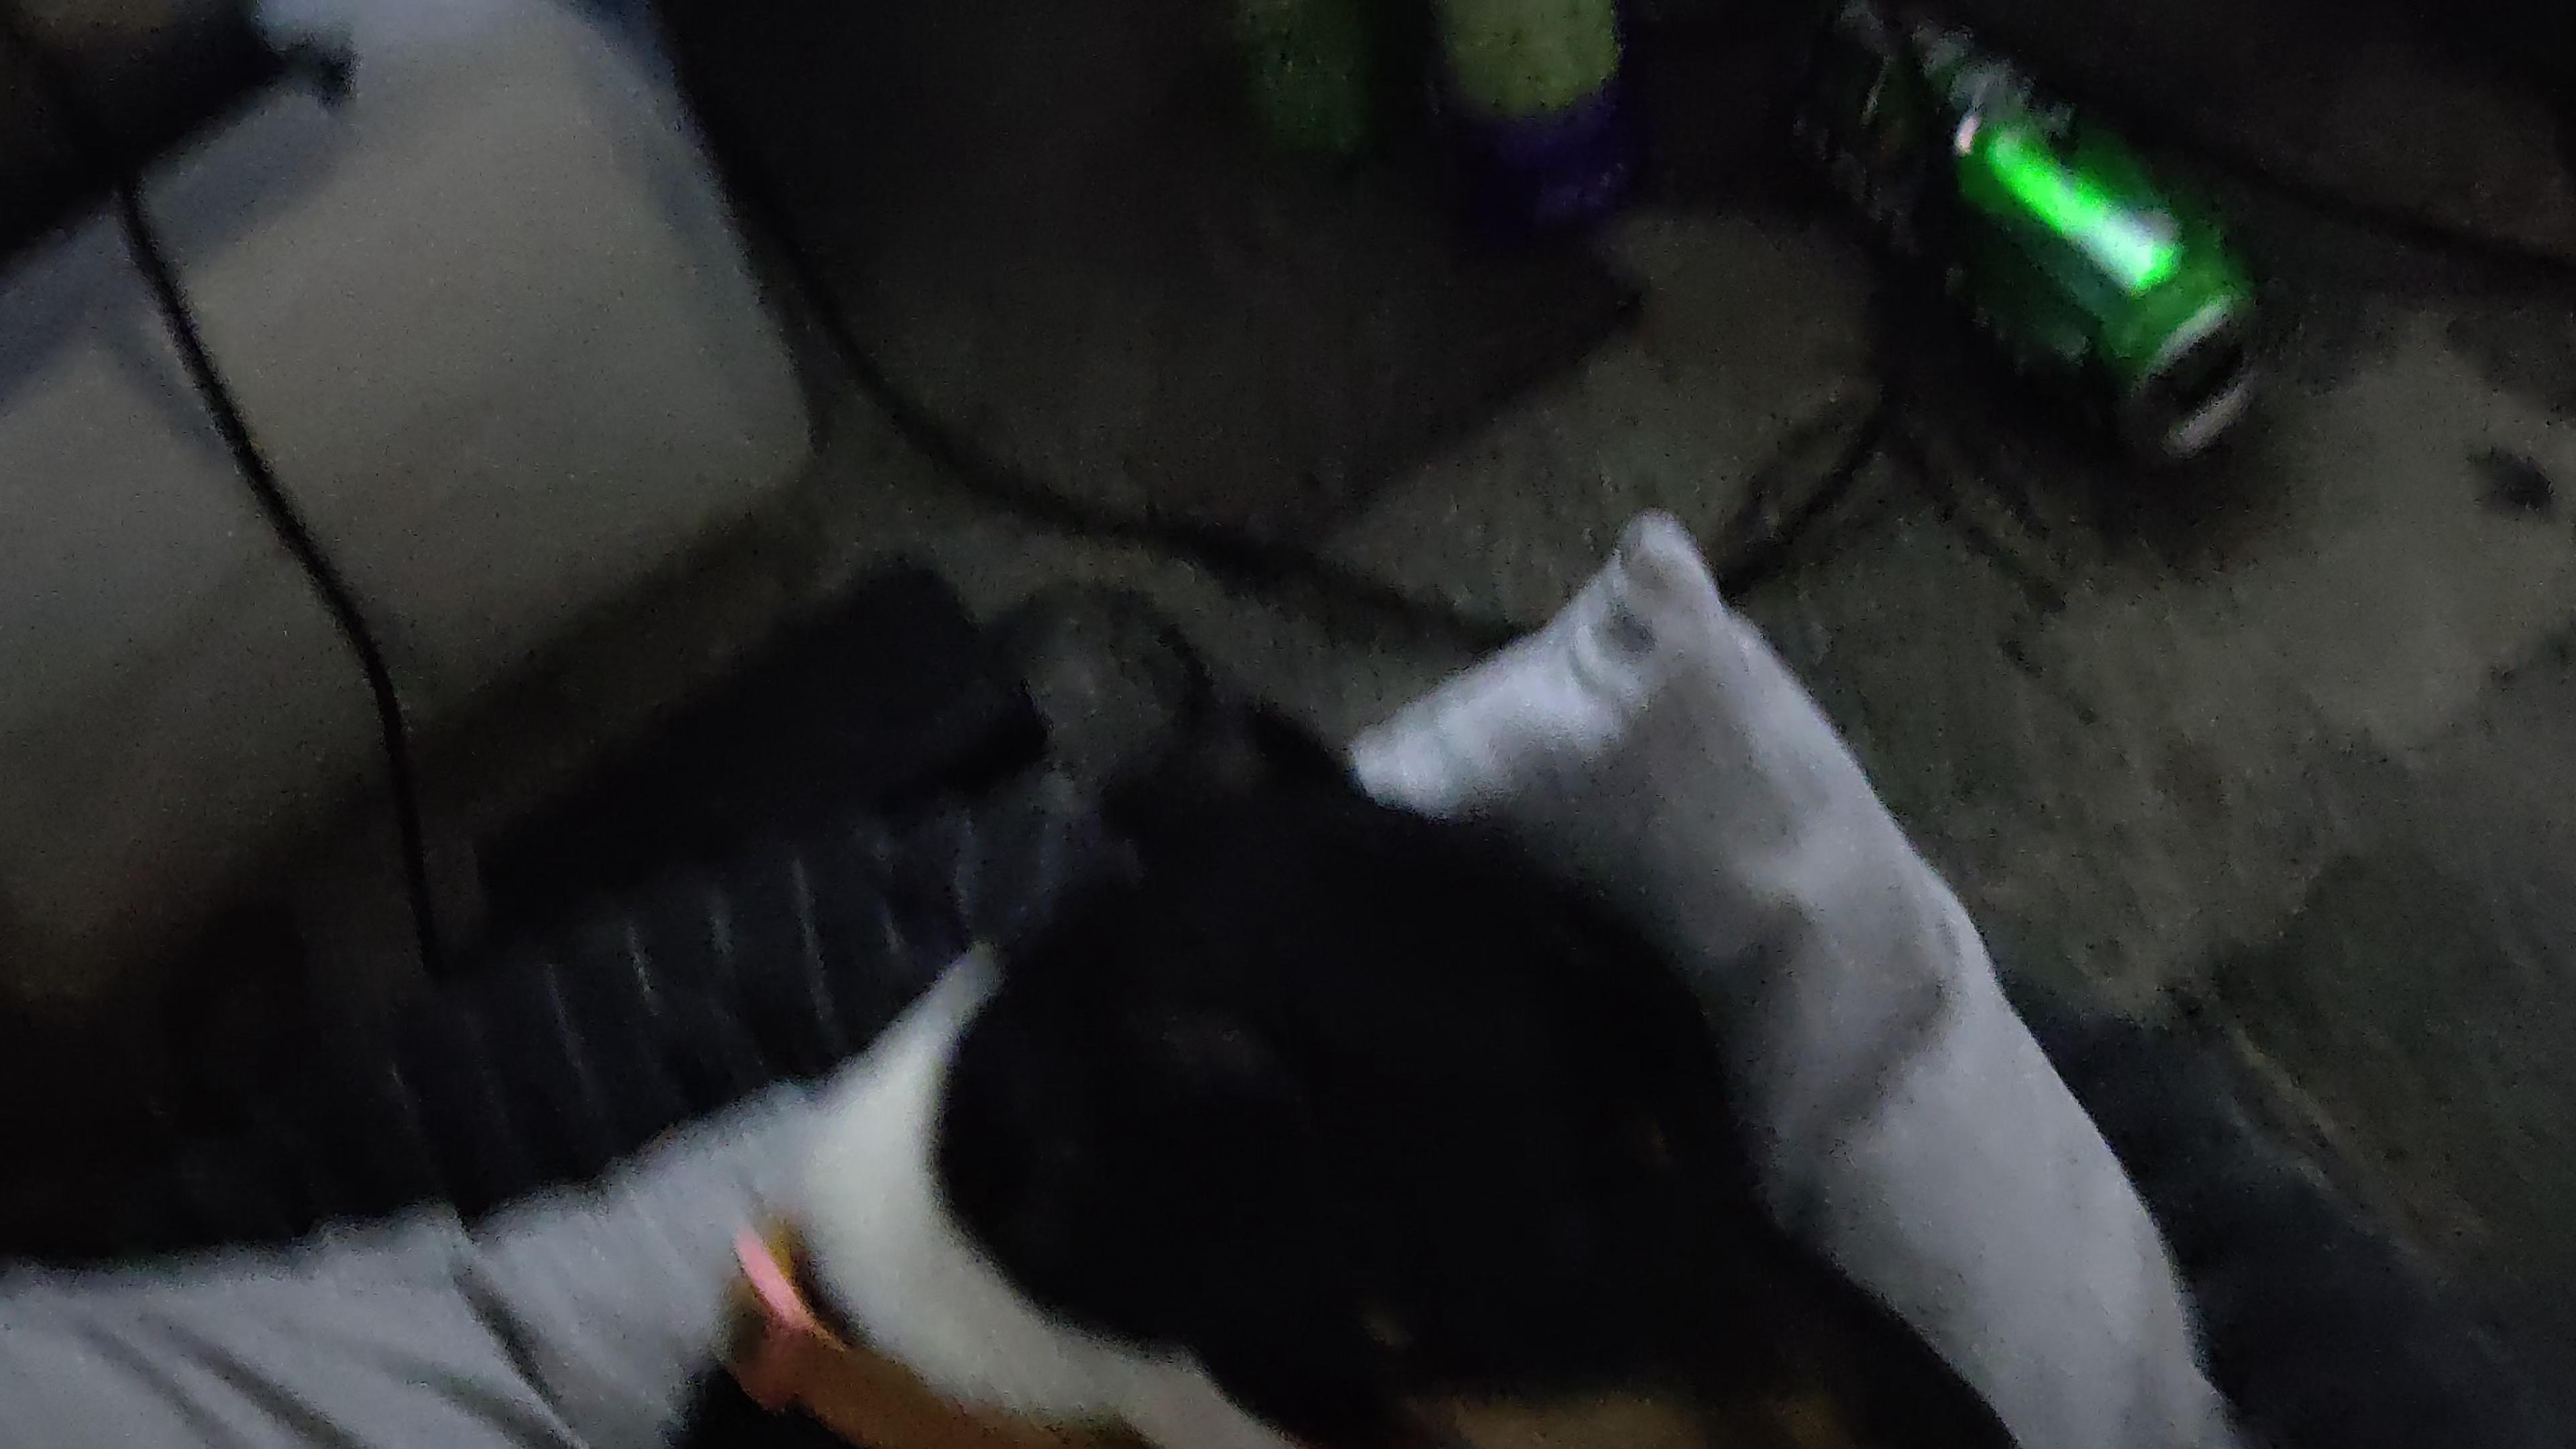Dog: (653, 626, 2017, 1449)
